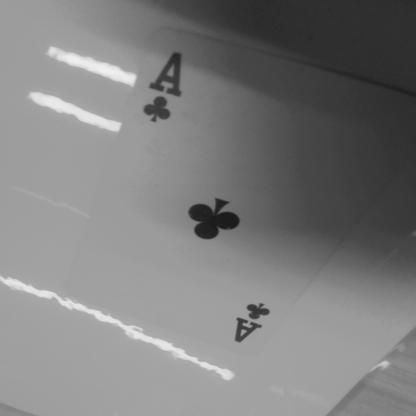AC: (136, 42, 200, 138), (222, 286, 302, 354)
